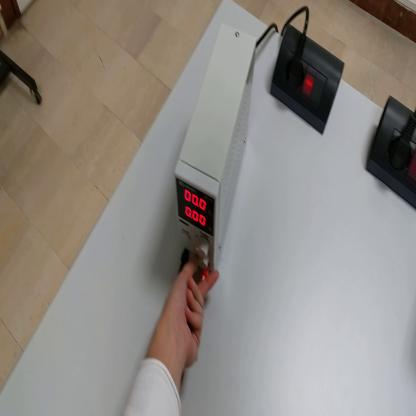hand: (167, 261, 219, 368)
power supply: (177, 26, 260, 277)
socket: (270, 24, 348, 135), (366, 93, 416, 209)
